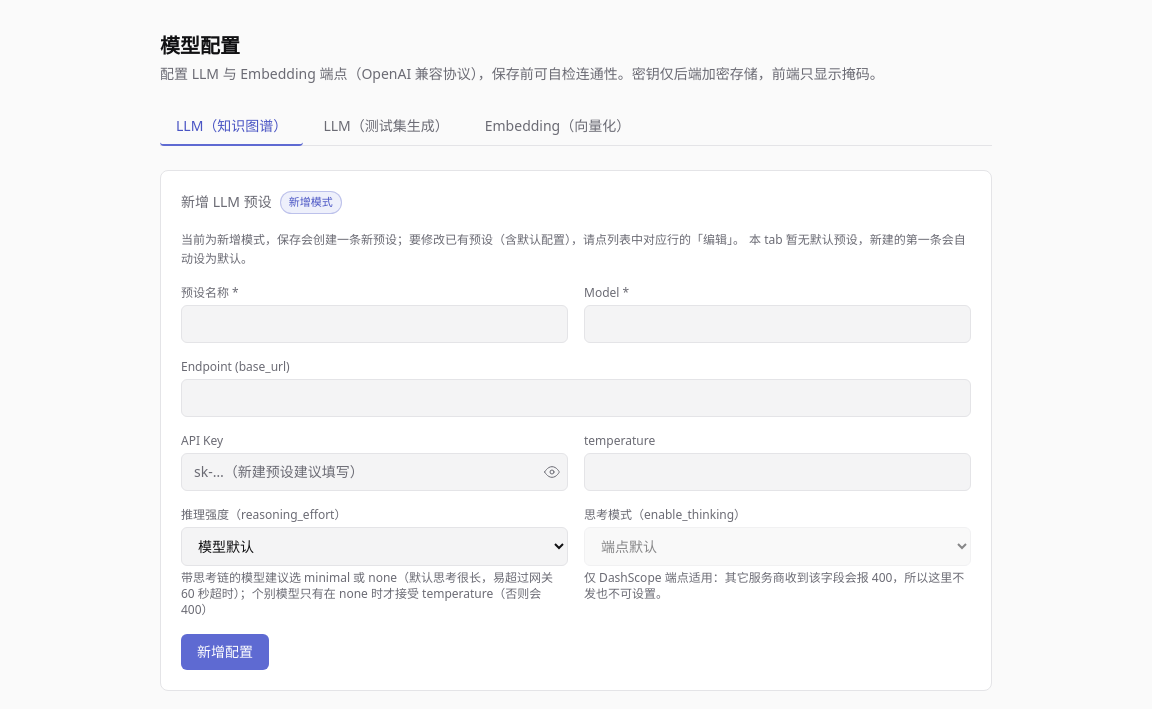
ConfigPage › API Key 填成 URL 的即时提示带读屏属性，且无需提交
The width and height of the screenshot is (1152, 709).
Type "新预设" into the field named "预设名称" at [374, 324], box left=181, top=304, right=568, bottom=342
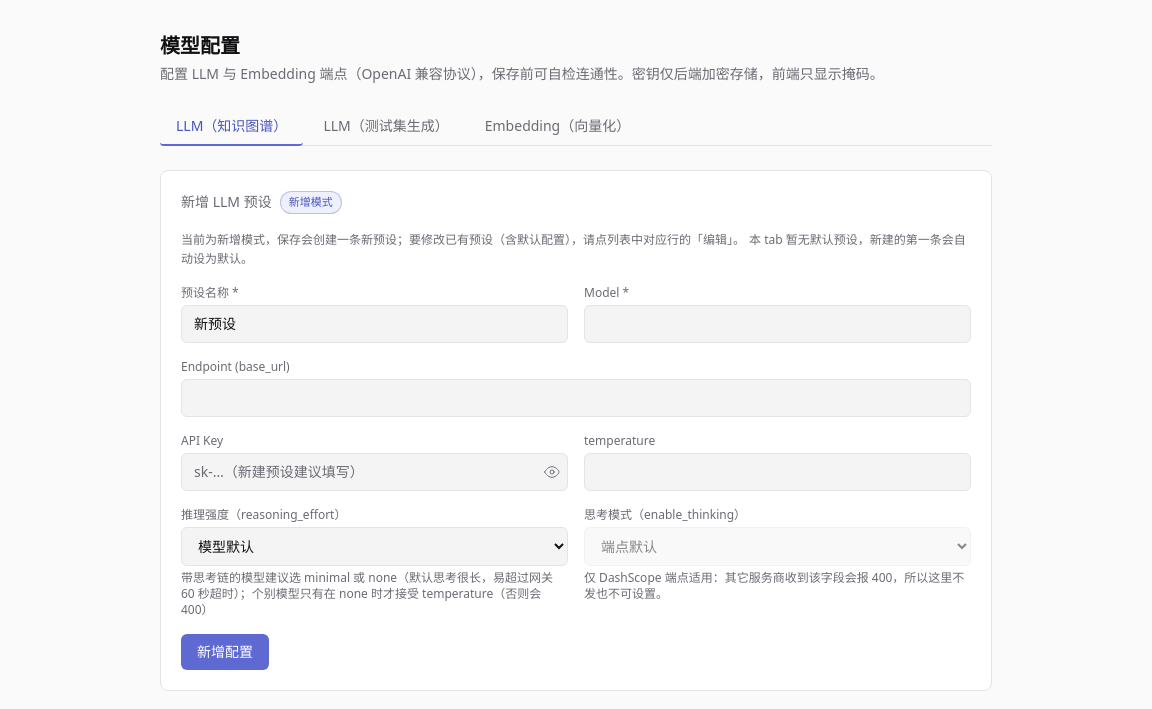
Type "qwen-max" into the field named "Model" at [778, 324], box left=584, top=304, right=971, bottom=342
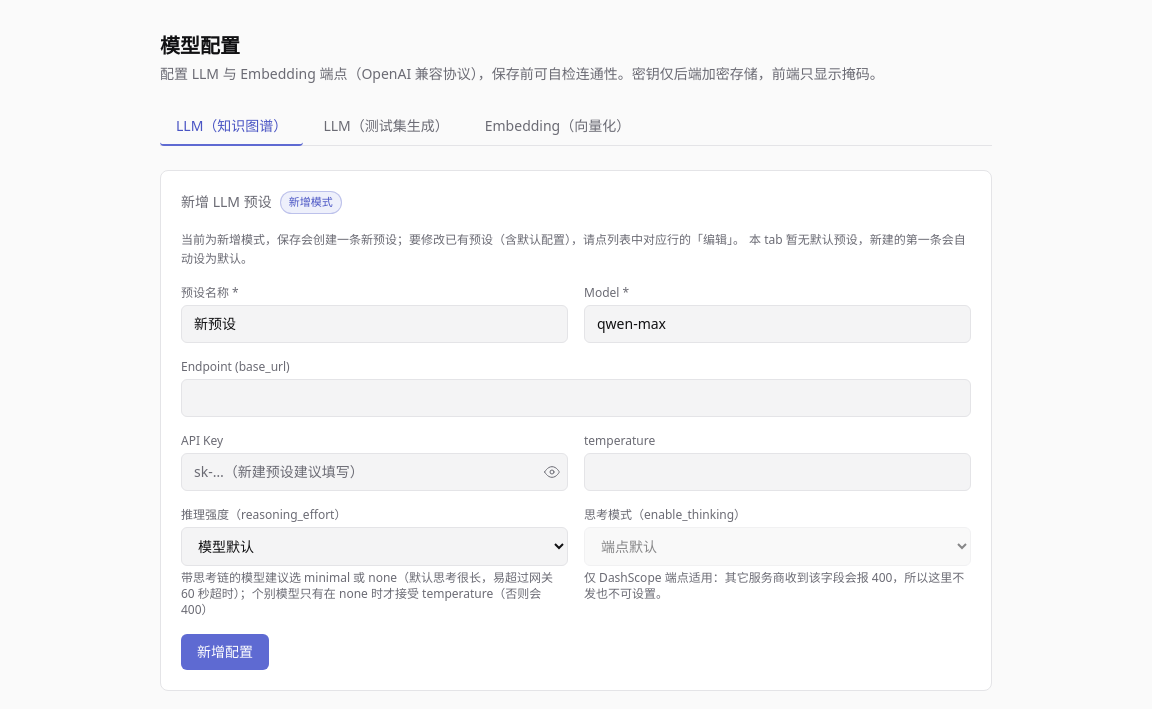
Type "https://dashscope.aliyuncs.com" into the password field with placeholder "sk-…（新建预设建议填写）" at [374, 472], box left=181, top=452, right=568, bottom=490
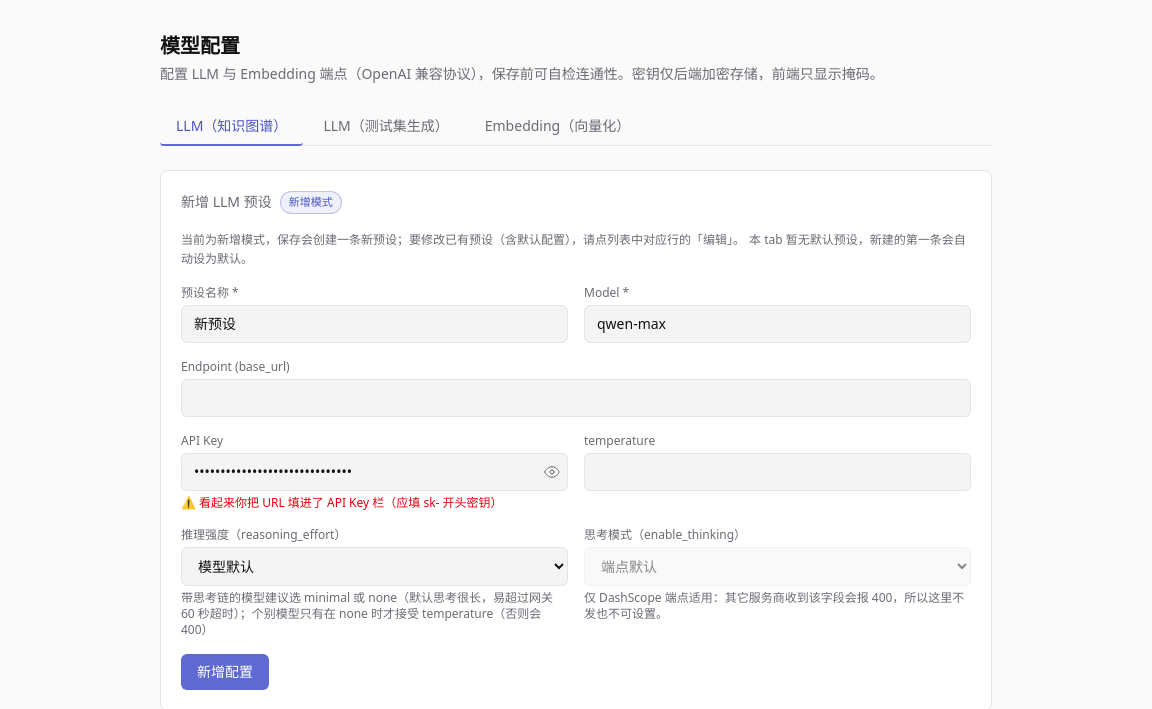
Expected: the text "⚠️ 看起来你把 URL 填进了 API Key 栏（应填 sk- 开头密钥）" is shown, left=181, top=494, right=503, bottom=510
Type "sk-xxxx" into the password field named "API Key" at [374, 472], box left=181, top=452, right=568, bottom=490
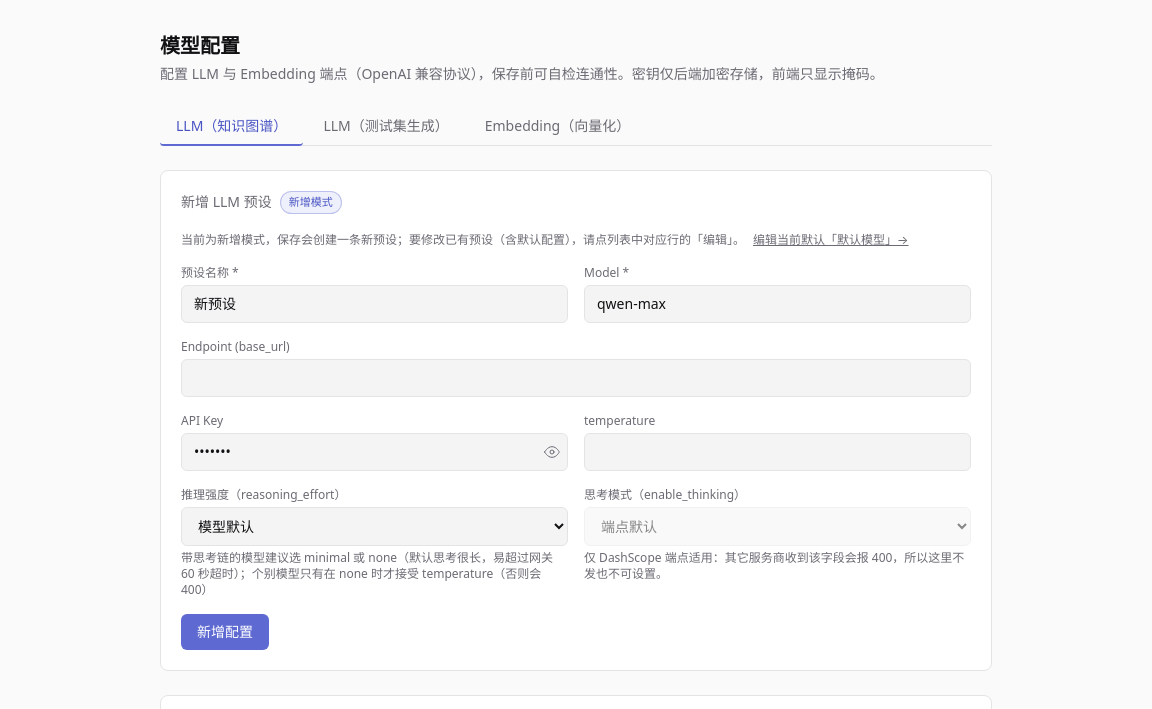
Expected: the text "看起来你把 URL 填进了 API Key 栏" is gone
